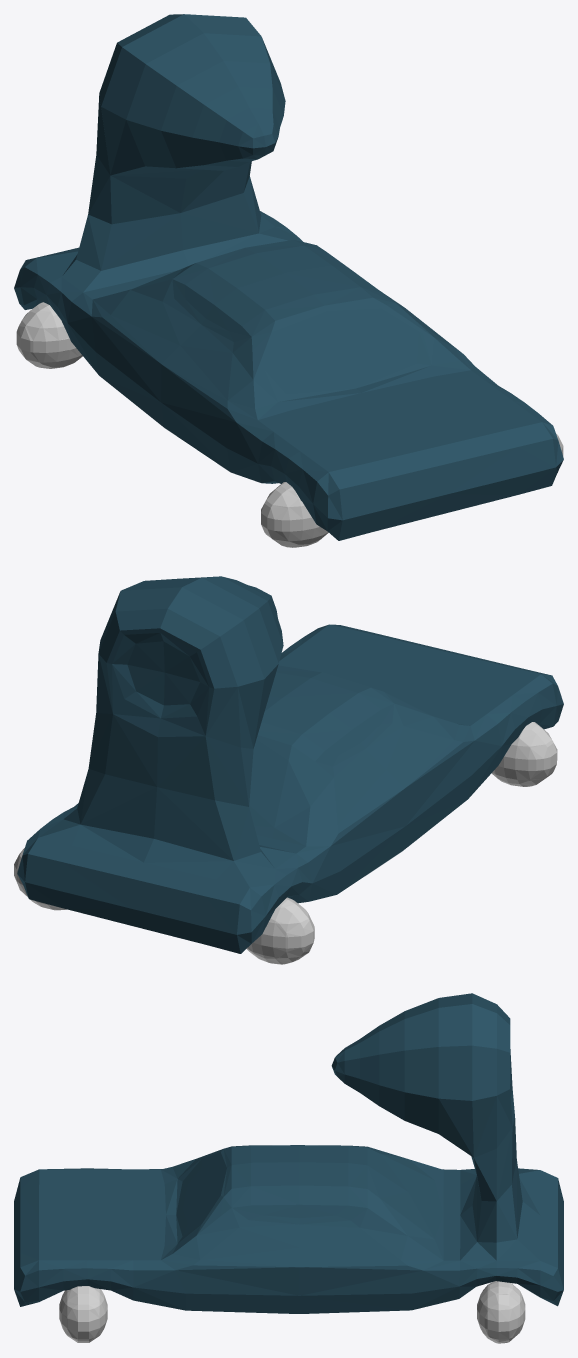
File: myCar.obj
The picture shows the model from 3 angles, top to bottom: view 1: azimuth 30°, elevation 25°; view 2: azimuth 150°, elevation 25°; view 3: azimuth 270°, elevation 25°; orthographic projection. The views are drawn at different scales.
Visible parts, largest first — view 1: Boxy.000_Cube.005, Mball; view 2: Boxy.000_Cube.005, Mball; view 3: Boxy.000_Cube.005, Mball.
Part boxes in pixels (x1,y1,x2,y2): Boxy.000_Cube.005: (14, 14, 563, 540); Mball: (16, 302, 563, 547); Boxy.000_Cube.005: (17, 576, 563, 953); Mball: (14, 722, 557, 964); Boxy.000_Cube.005: (14, 993, 563, 1313); Mball: (59, 1281, 525, 1343).
Bounding box in the file's own units: 2.62 × 2.84 × 4.9.
